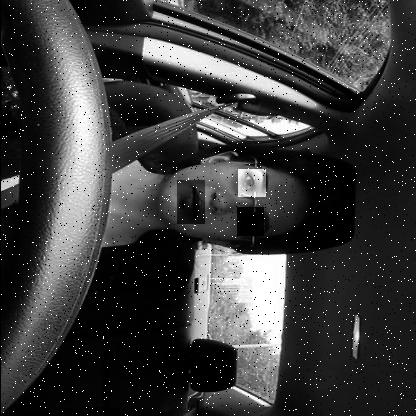seatbelt: (0, 112, 336, 264)
